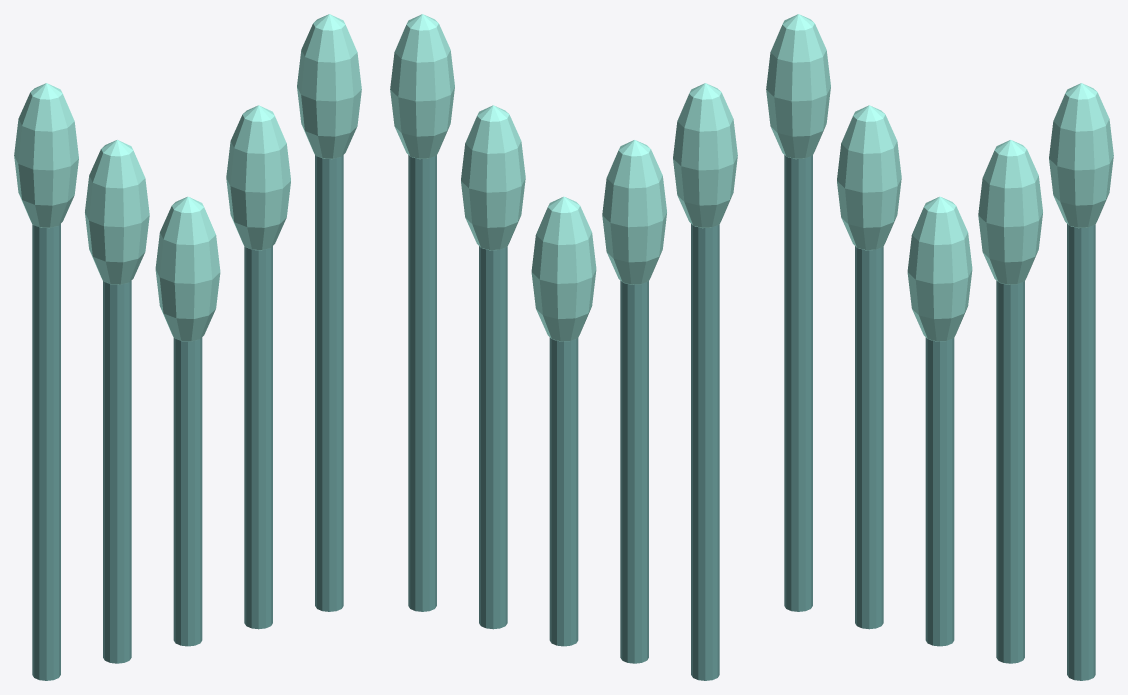
Rendered from glow_reeds.glb.
The picture shows the model from 3 angles, left to right: view 1: azimuth 30°, elevation 25°; view 2: azimuth 150°, elevation 25°; view 3: azimuth 330°, elevation 25°; orthographic projection.
Visible parts, largest first — view 1: stem (×5), light (×5); view 2: stem (×5), light (×5); view 3: stem (×5), light (×5).
Part boxes in pixels (left/top/right/bottom): stem (×5): left=32, top=155, right=343, bottom=680; light (×5): left=14, top=14, right=361, bottom=341; stem (×5): left=408, top=155, right=719, bottom=680; light (×5): left=390, top=14, right=737, bottom=341; stem (×5): left=784, top=155, right=1095, bottom=680; light (×5): left=766, top=14, right=1113, bottom=341.
Size of the model in its own units: 0.96 by 1.6 by 0.1522.
